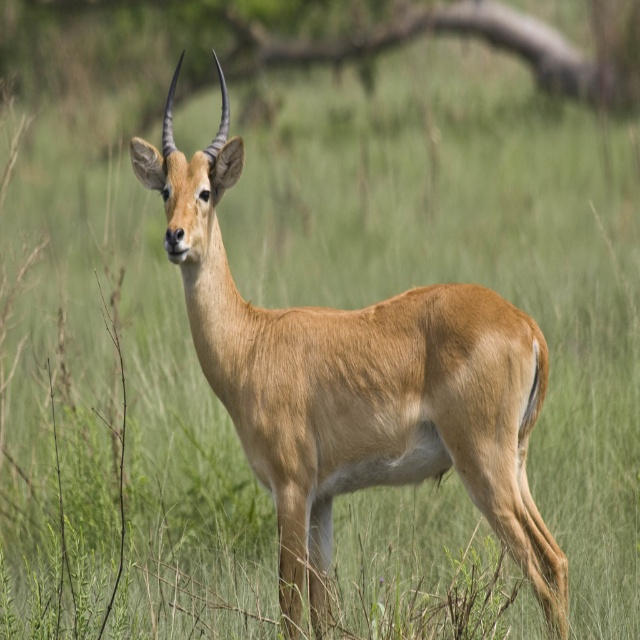Deer: (129, 47, 569, 640)
